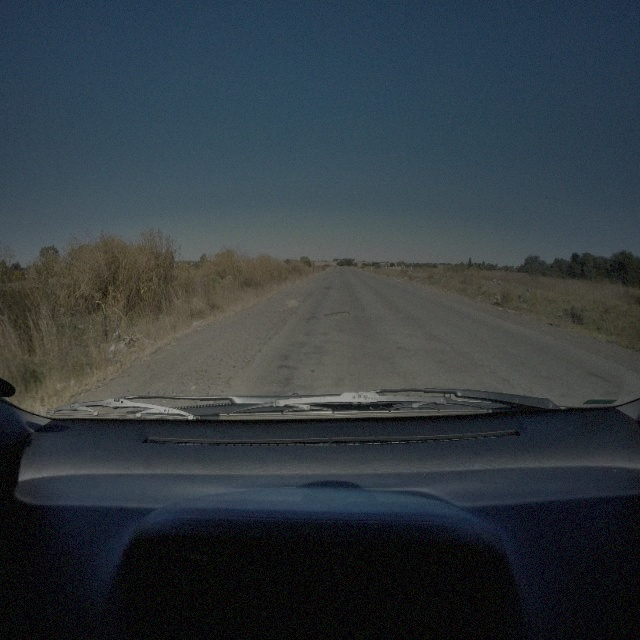pothole: (322, 308, 349, 319)
